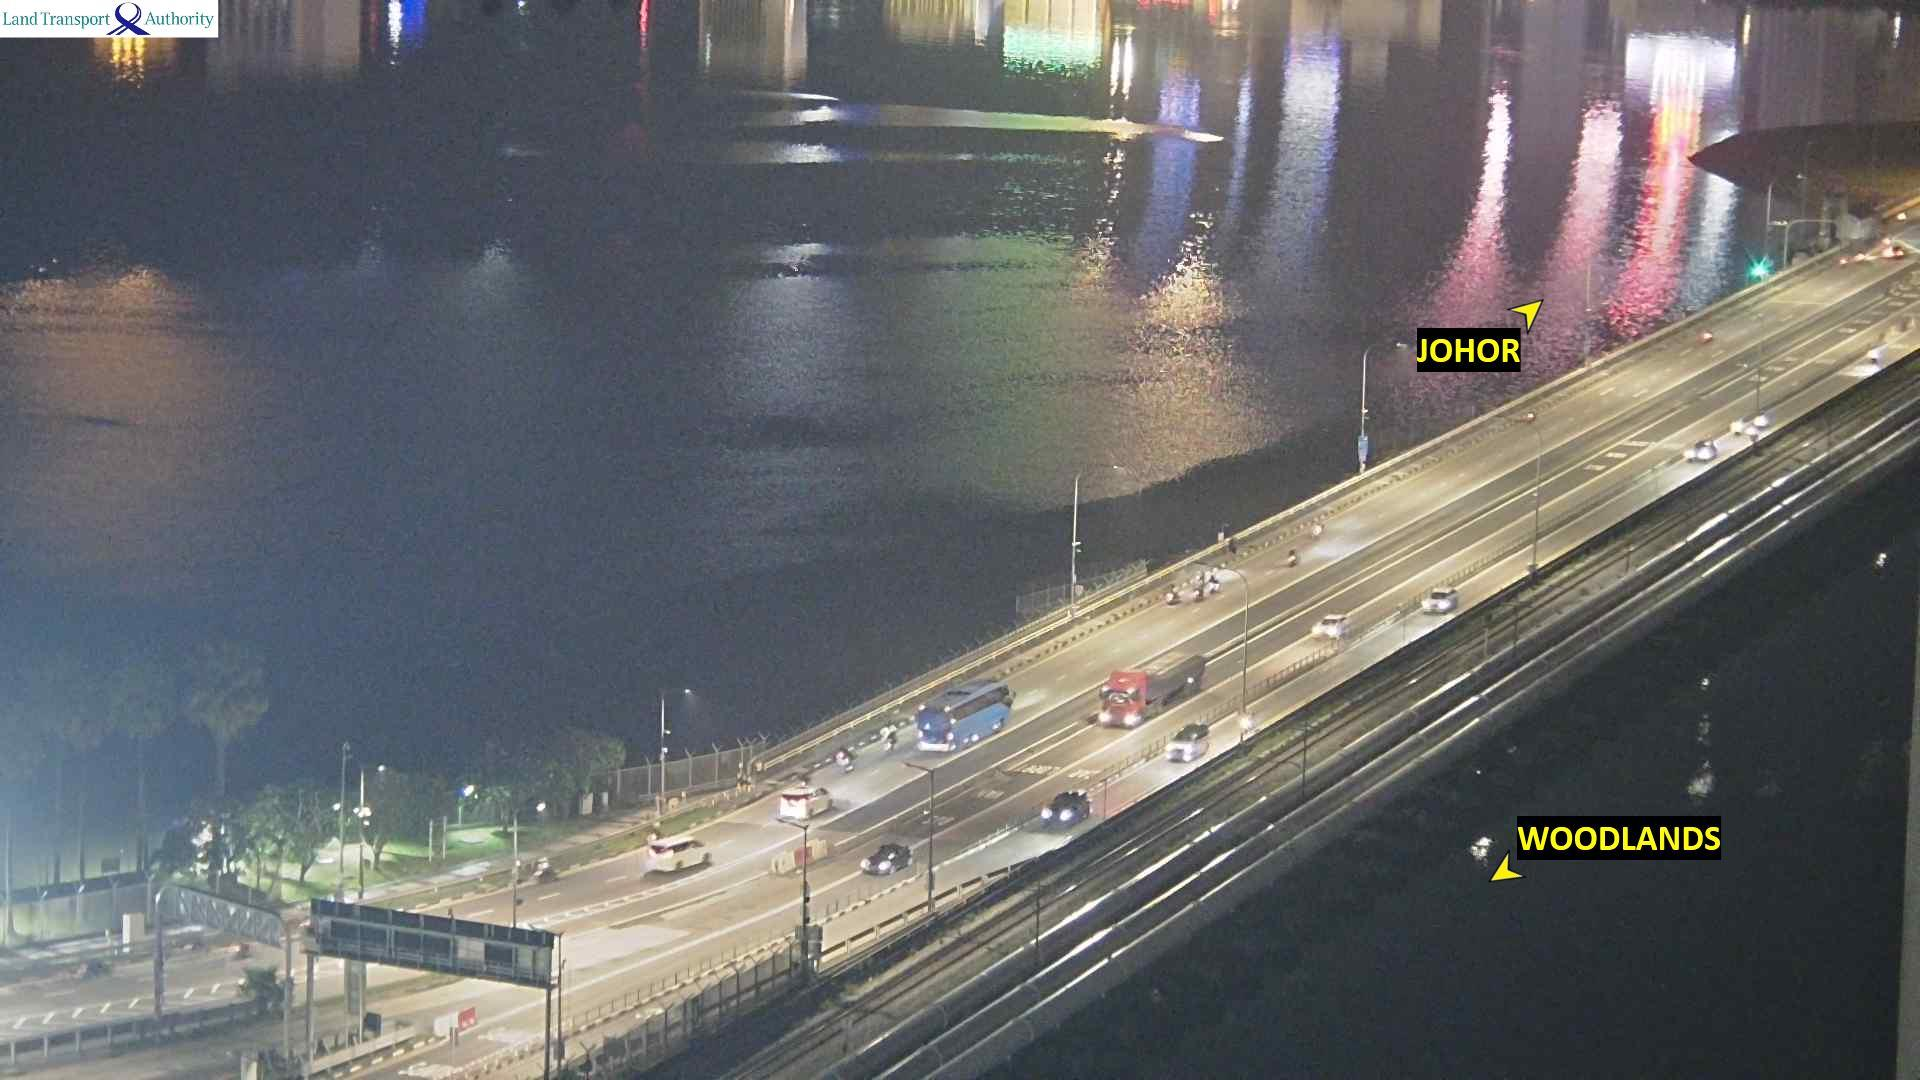vehicle-causeway-johor: (645, 836, 711, 874), (786, 790, 844, 825), (837, 749, 857, 773)
vehicle-causeway-singapore: (1043, 790, 1091, 827), (864, 847, 909, 880)
